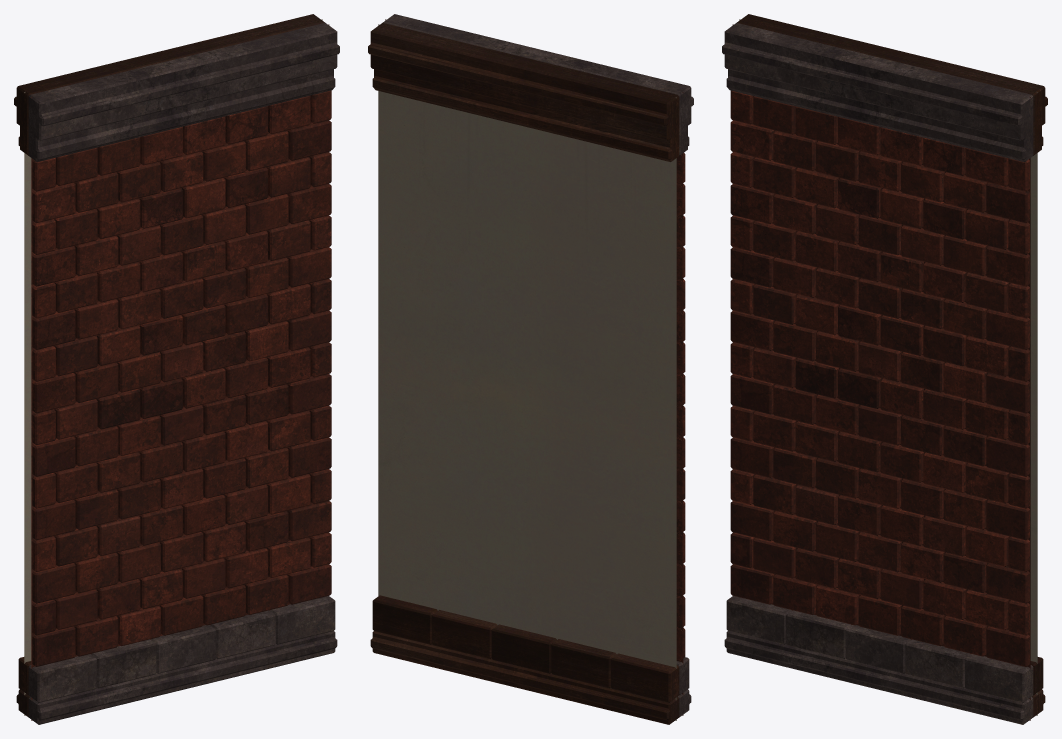
Rendered from SK3 WALL 1.fbx.
The picture shows the model from 3 angles, left to right: view 1: azimuth 30°, elevation 25°; view 2: azimuth 150°, elevation 25°; view 3: azimuth 330°, elevation 25°; orthographic projection.
Visible parts, largest first — view 1: SK3 WALL 1; view 2: SK3 WALL 1; view 3: SK3 WALL 1.
Boxes of the visible parts, x1,y1,x2,y2 form: SK3 WALL 1: (14, 14, 339, 724); SK3 WALL 1: (368, 14, 693, 724); SK3 WALL 1: (722, 14, 1047, 724).
Bounding box in the file's own units: 200 × 400 × 34.13.
